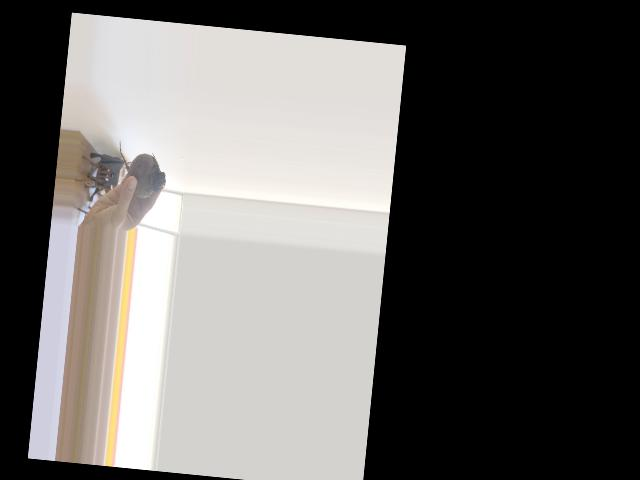beet: (114, 138, 169, 199)
